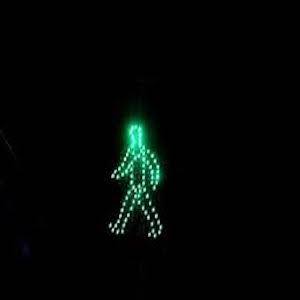green: (101, 120, 184, 245)
